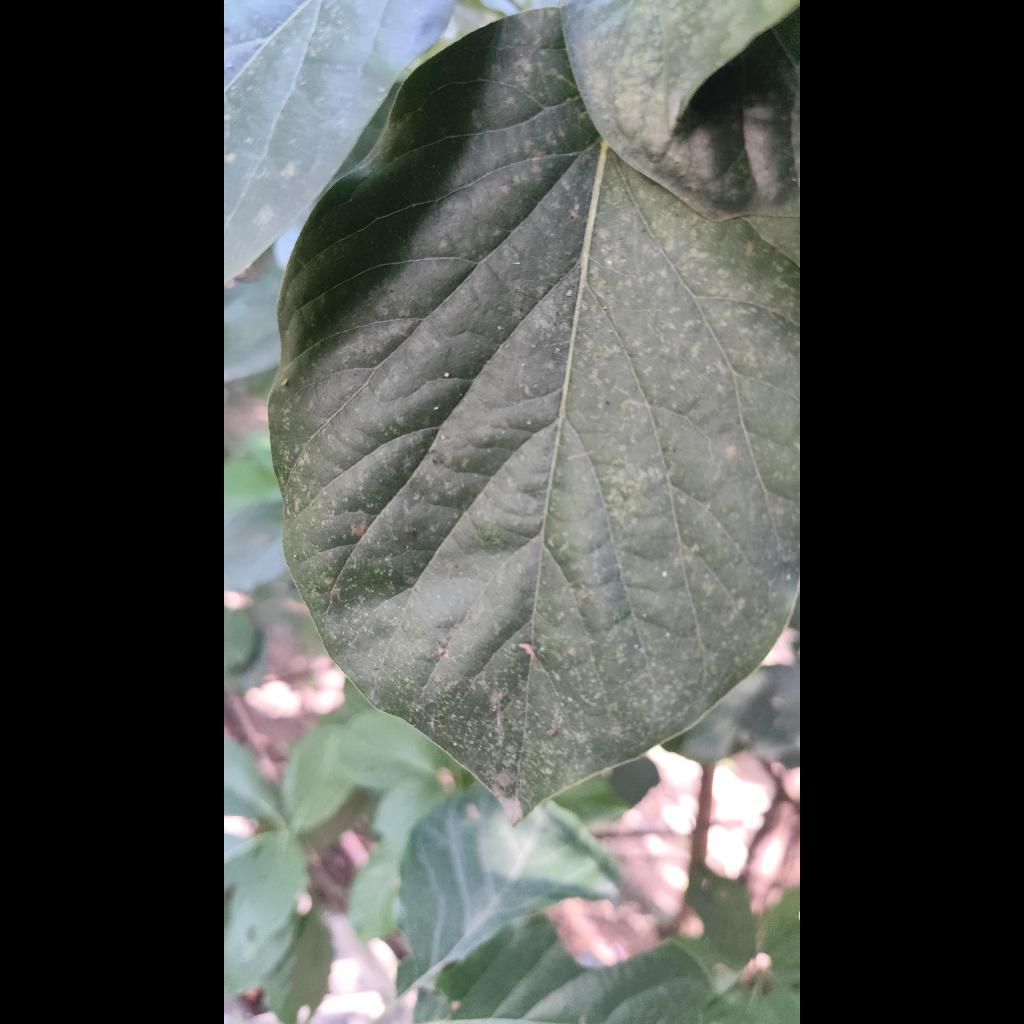Pest Infested: (270, 11, 800, 819)
